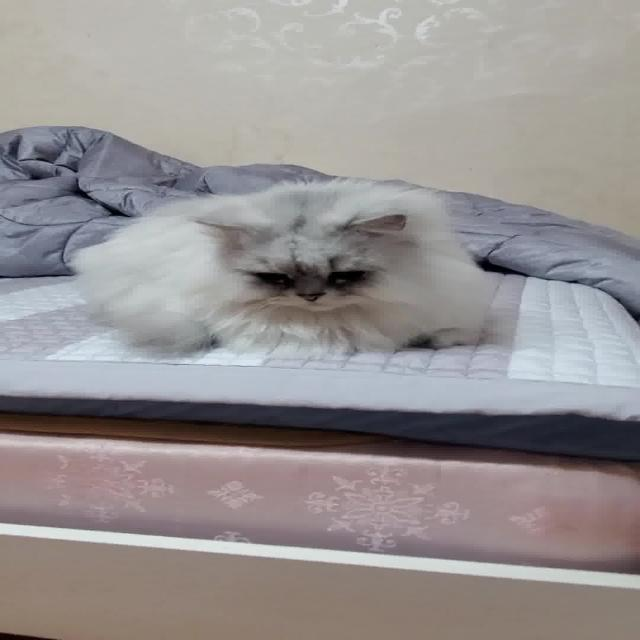cat: (62, 172, 505, 364)
